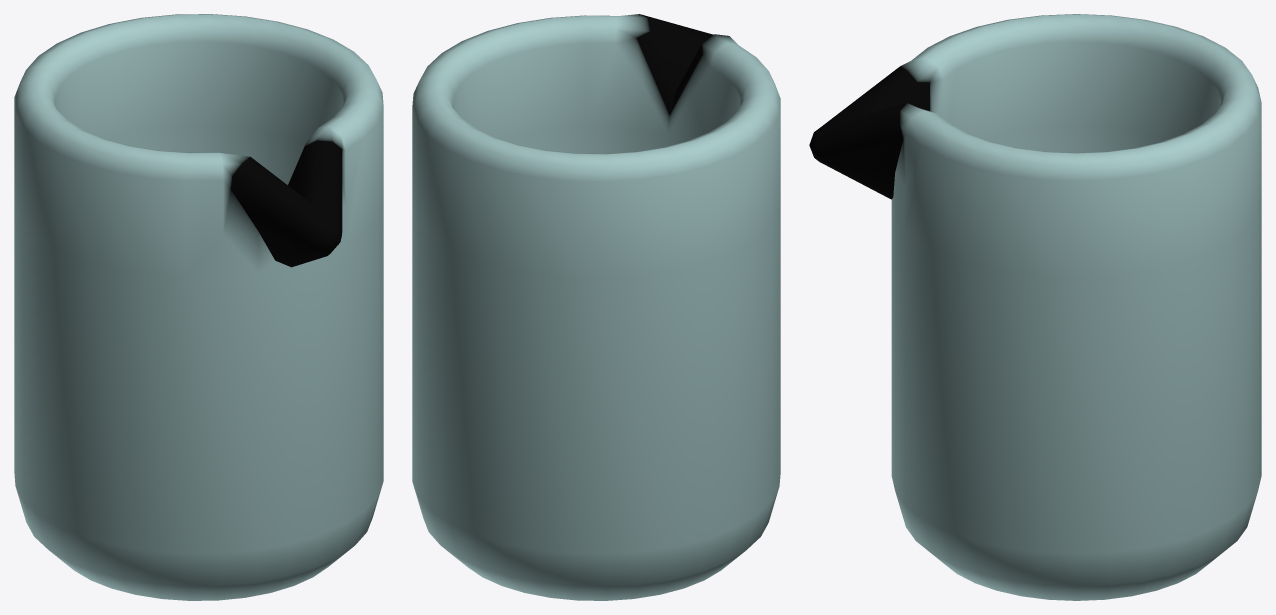
The model's file is LastLuna_Model_Station_Beaker.fbx.
3 views of the same model, side by side, from view 1: azimuth 30°, elevation 25°; view 2: azimuth 150°, elevation 25°; view 3: azimuth 270°, elevation 25° (orthographic).
Parts seen in each view (by area): view 1: Beaker001; view 2: Beaker001; view 3: Beaker001.
Part boxes in pixels (left/top/right/bottom): Beaker001: left=14, top=14, right=383, bottom=600; Beaker001: left=412, top=14, right=780, bottom=600; Beaker001: left=809, top=14, right=1261, bottom=600.
Bounding box in the file's own units: 45 × 62.5 × 55.
